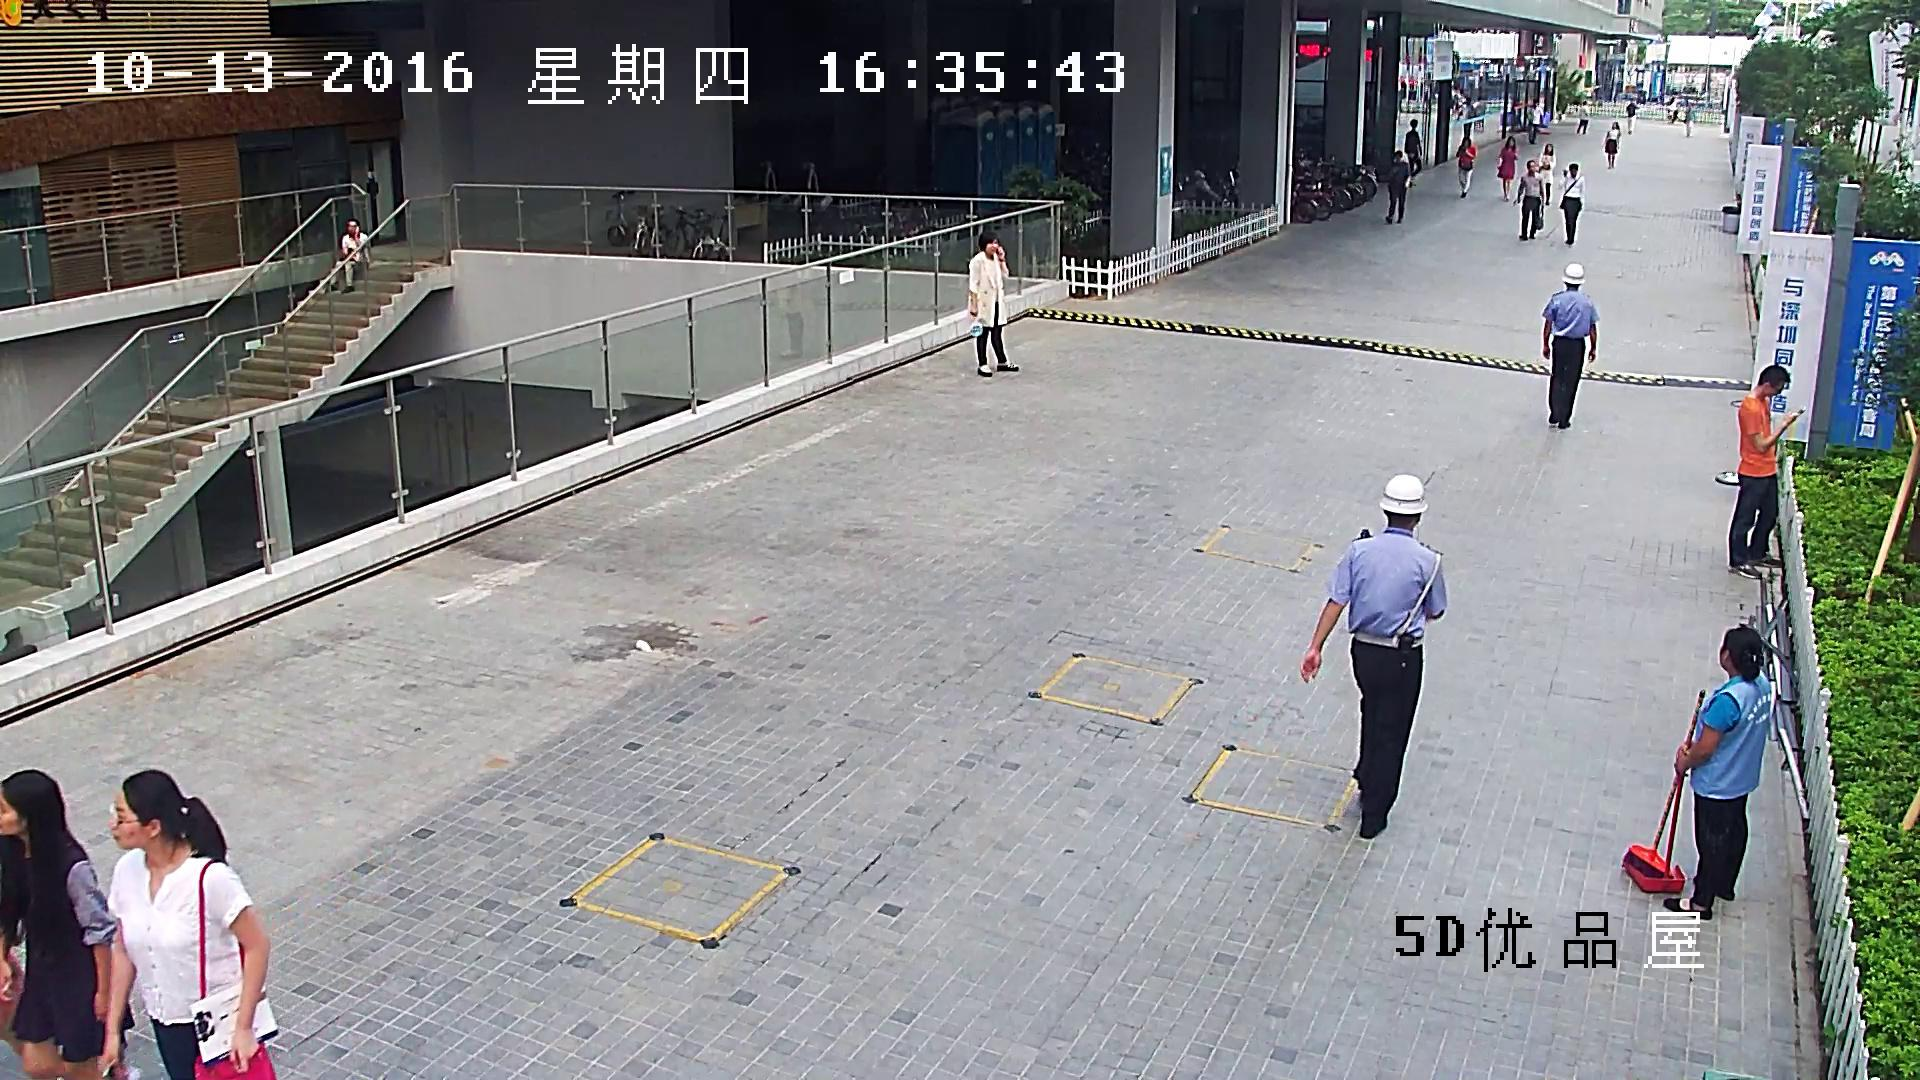person: (96, 769, 280, 1080), (1299, 473, 1446, 841), (1620, 624, 1774, 921), (0, 767, 136, 1080), (1662, 625, 1772, 921), (1727, 363, 1808, 579), (1540, 263, 1601, 429), (967, 231, 1020, 378), (325, 217, 369, 294), (1512, 159, 1544, 241), (1557, 162, 1585, 247), (1384, 150, 1411, 224), (1455, 136, 1477, 200), (1496, 136, 1517, 201), (1404, 118, 1423, 186), (1539, 142, 1555, 205), (1605, 121, 1620, 169), (1527, 100, 1542, 145), (1462, 97, 1474, 137), (1576, 102, 1589, 135), (1625, 100, 1636, 134), (1473, 97, 1485, 132), (1682, 109, 1693, 137), (1514, 100, 1521, 127)
